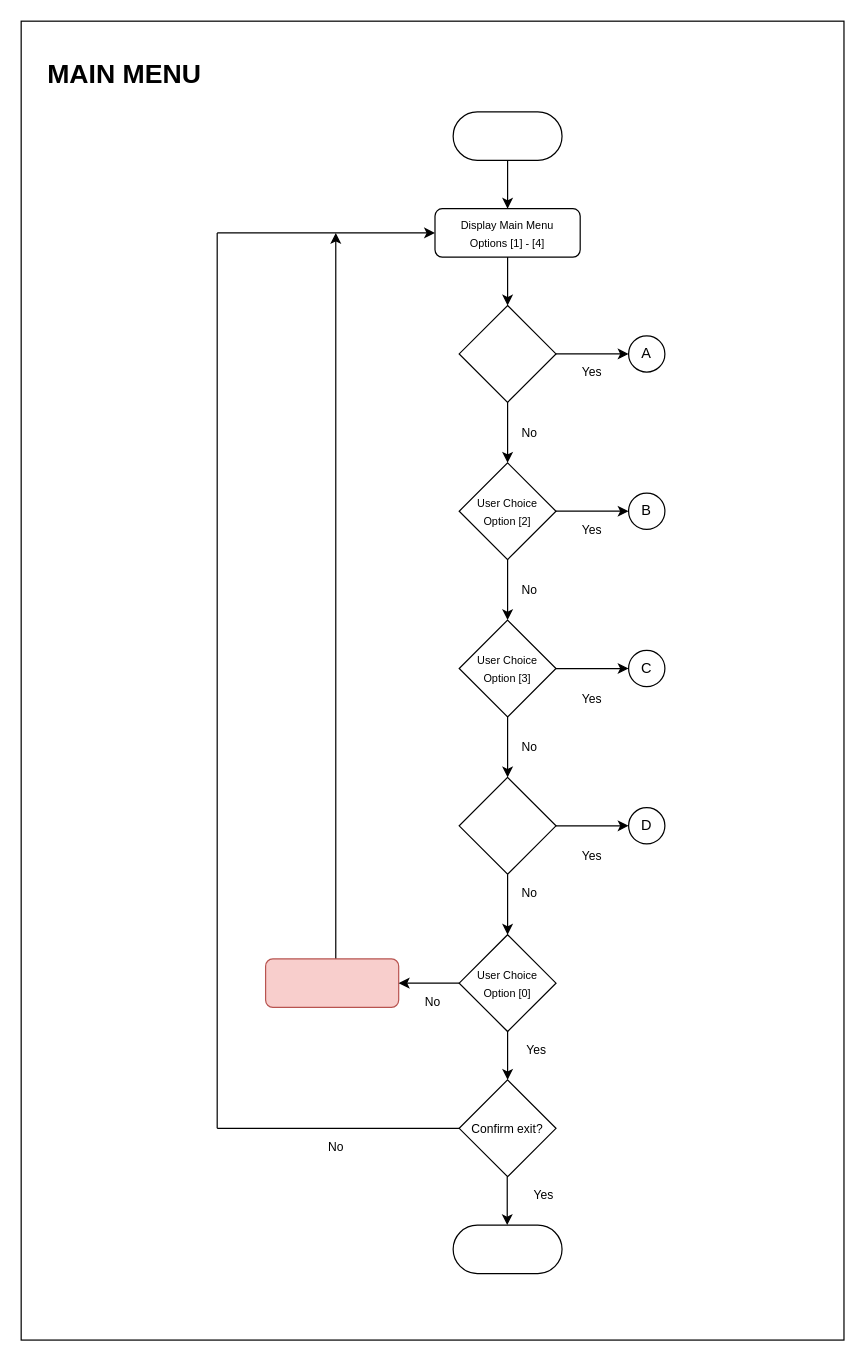
Image size: 865x1361. Some labels were removed from this diagram. Here are the shapes that lost their labels. From the top down, the centre of each, then its label:
(x=507, y=135): START
(x=507, y=353): User Choice Option [1]
(x=507, y=825): User Choice Option [4]
(x=331, y=982): Show message: "Pilihan tidak valid"
(x=507, y=1249): END
